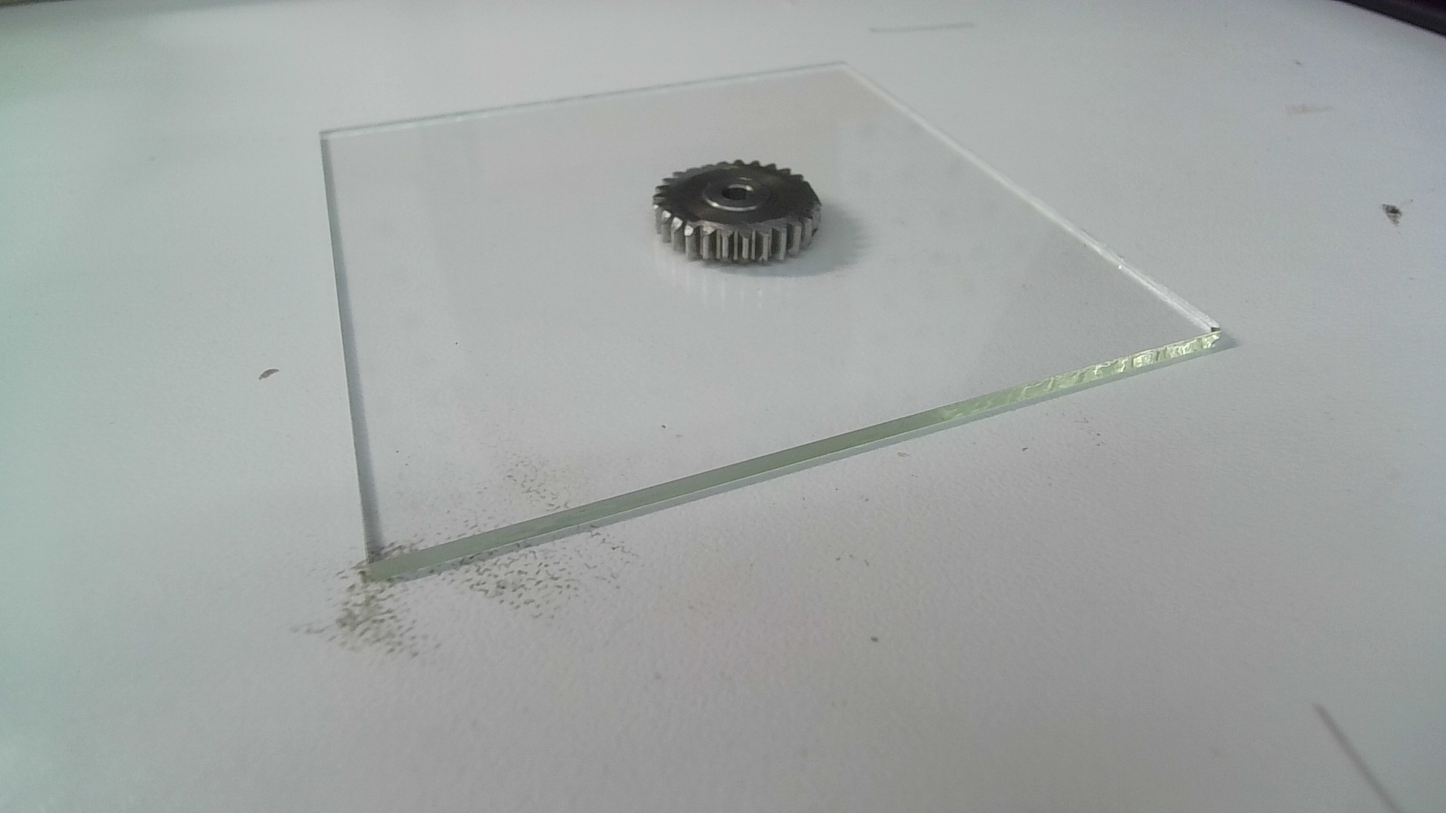gear: (648, 155, 825, 272)
